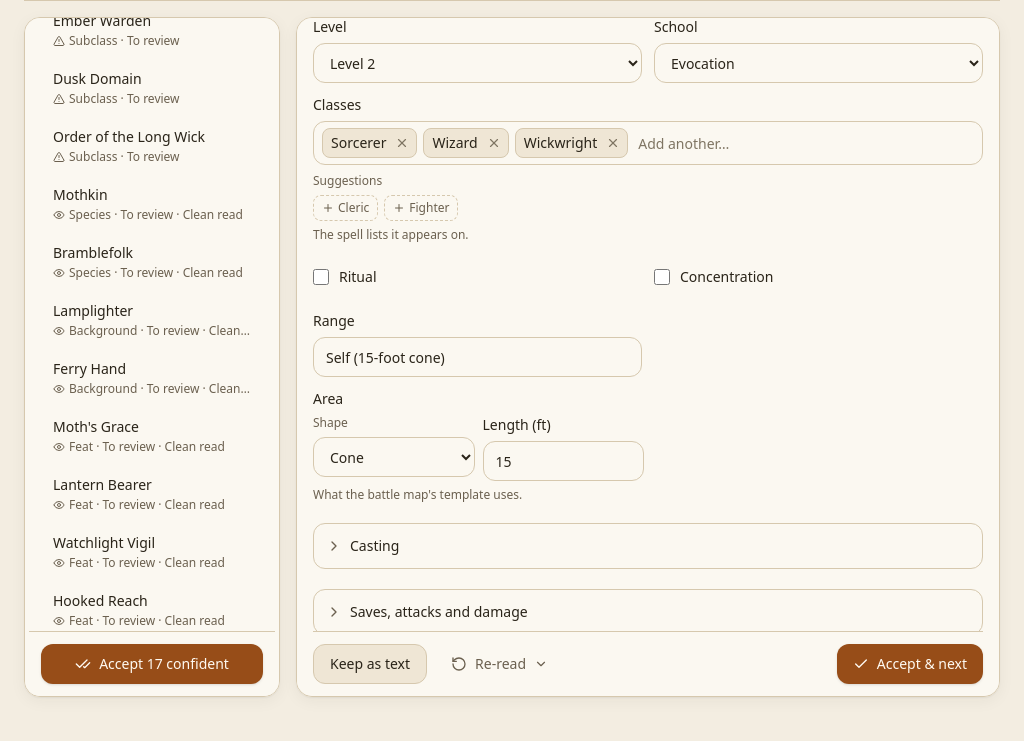
Test: the record detail › Alt+1 / Alt+2 switch between the fields and the source text on mid widths
(page scrolled)
Click the field labelled "Range" at (478, 357), box [313,337,642,377]
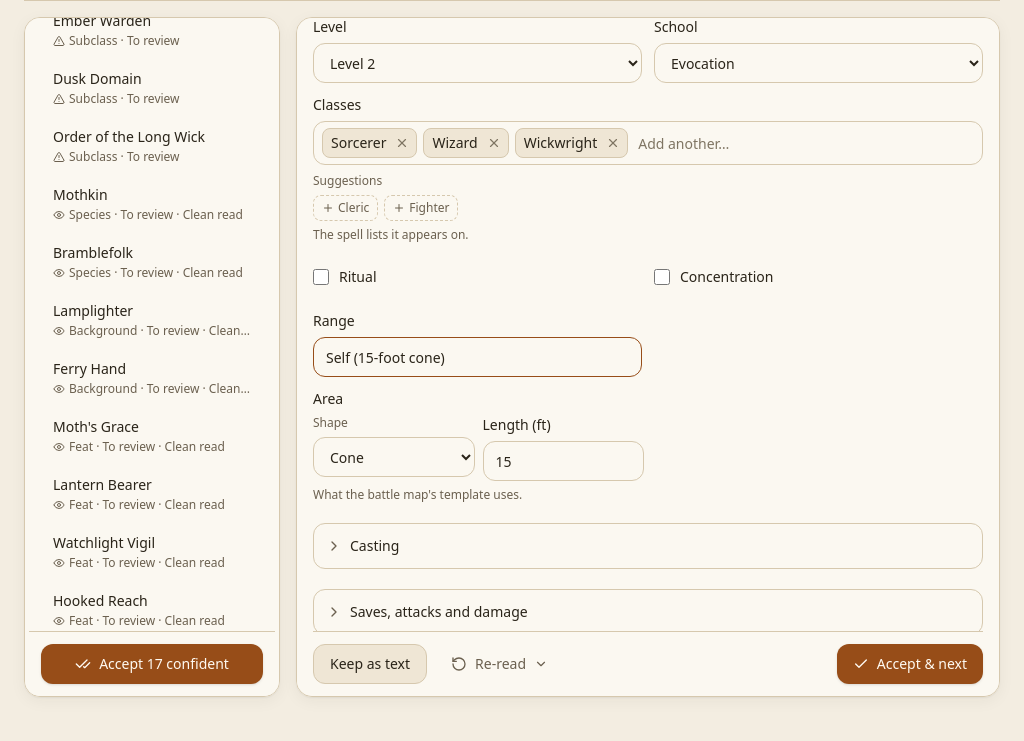
Type keys "{Alt>}2{/Alt}"
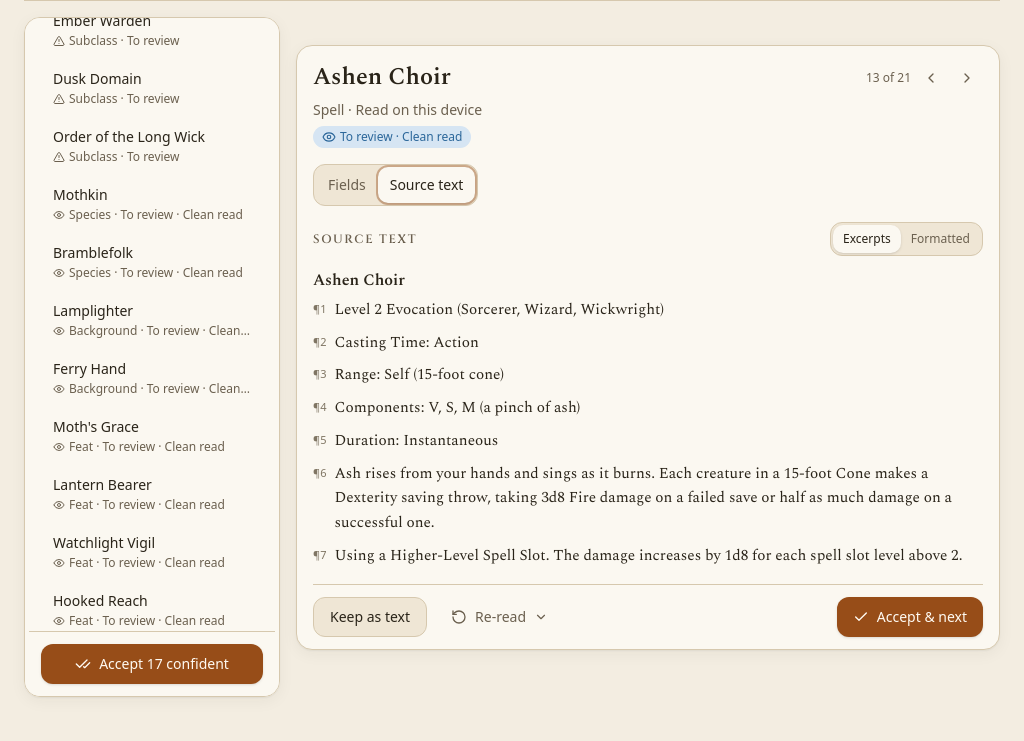
Expected: the radio button labelled "Source text" is checked, [378,167,475,203]
Type keys "{Alt>}1{/Alt}"
(page scrolled)
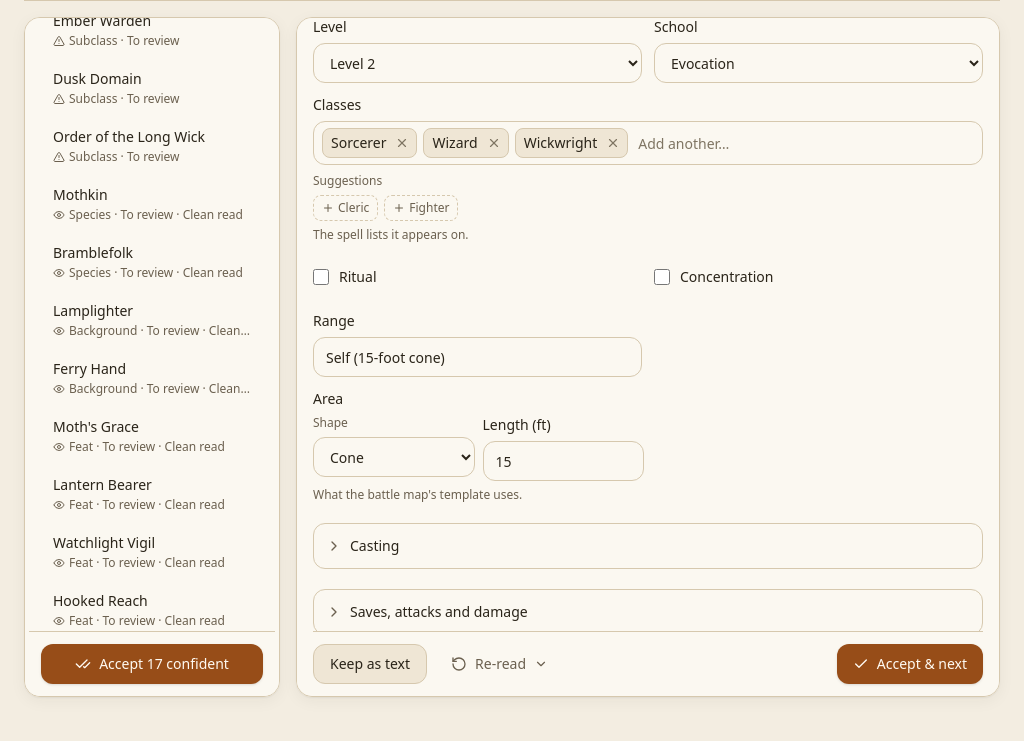
Expected: the field labelled "Range" is shown, [313,337,642,377]
